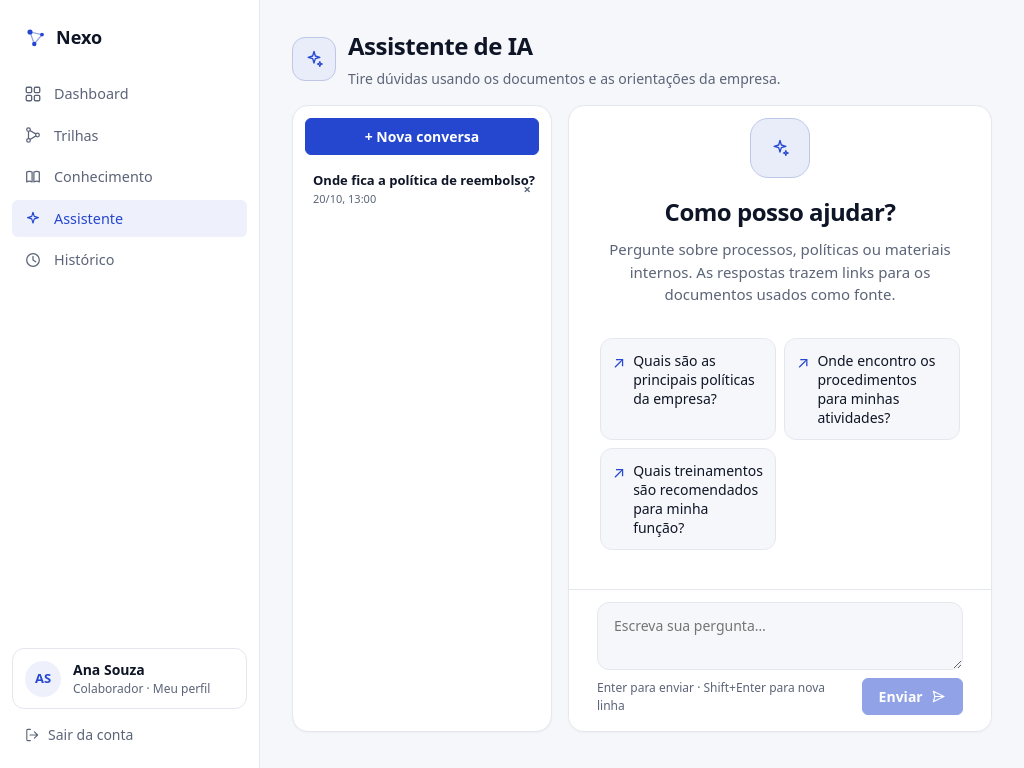
AssistentePage › mostra mensagem amigável e permite nova tentativa no erro 503
(page scrolled)
Type "Minha pergunta continua aqui" into the text box labelled "Escreva sua pergunta" at point(780, 636), box [597,602,963,670]
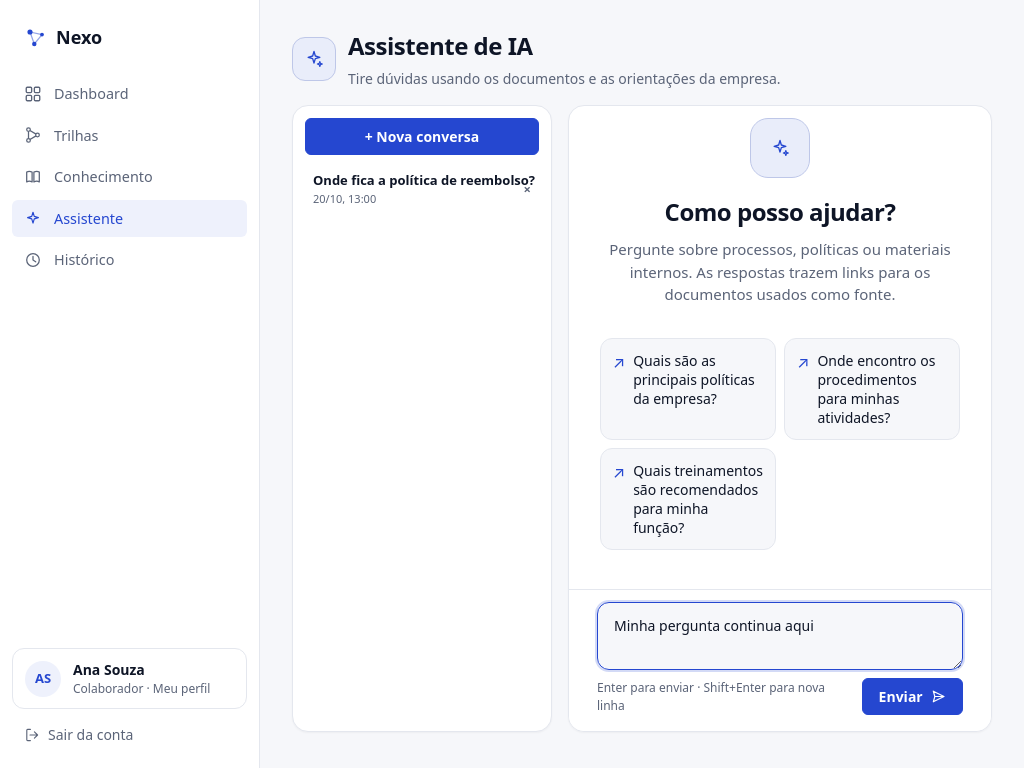
Press Enter
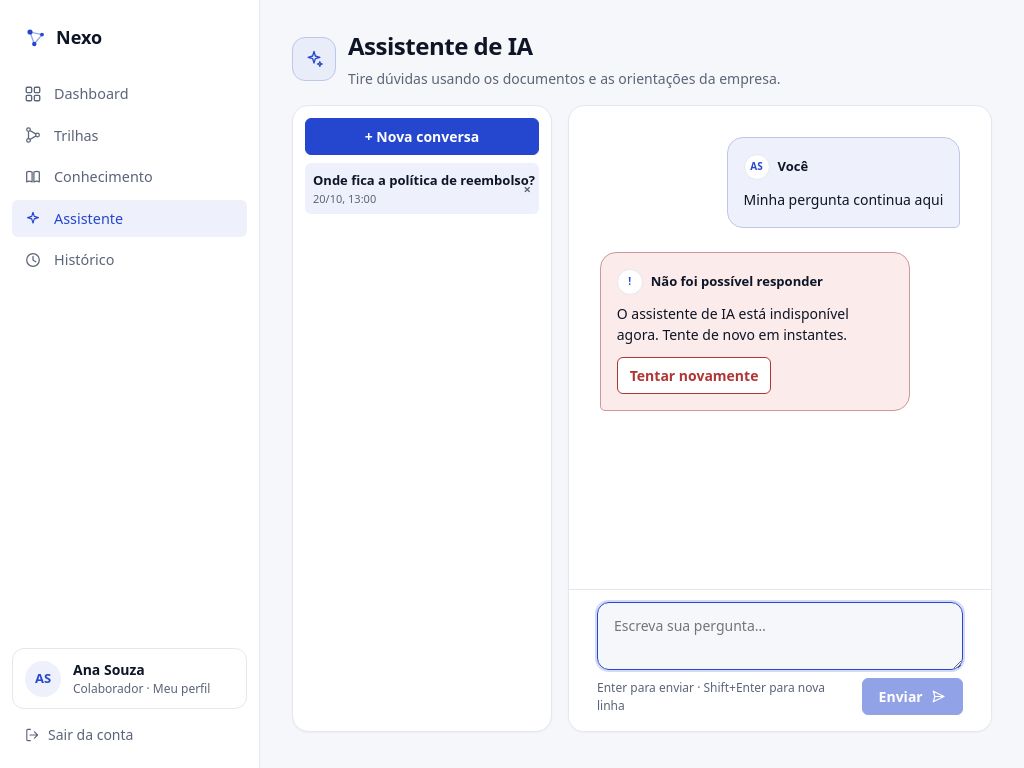
Now the text "Minha pergunta continua aqui" is shown, box [744,188,943,211]
Now the message "O assistente de IA está indisponível agora. Tente de novo em instantes." is shown, box [617,304,849,344]
Click the button "Tentar novamente" at point(694, 375), box [617,357,771,394]
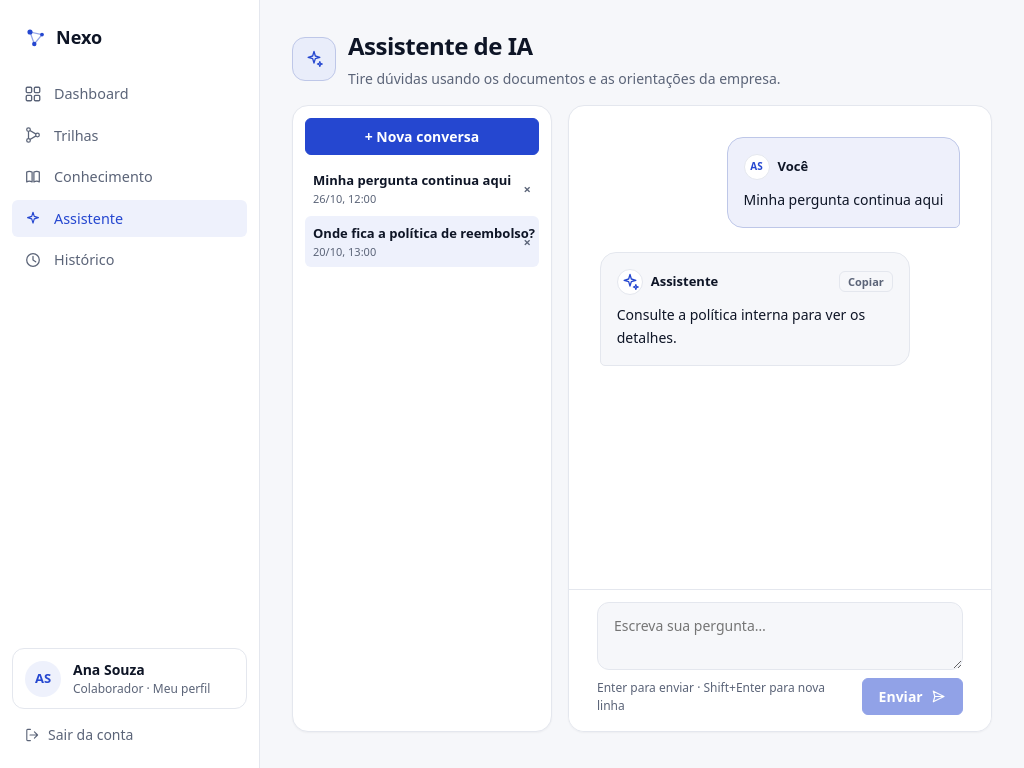
Now the text "Minha pergunta continua aqui" below "Você" is shown, box [744,190,943,209]
Now the text "Consulte a política interna para ver os detalhes." is shown, box [617,305,865,347]
